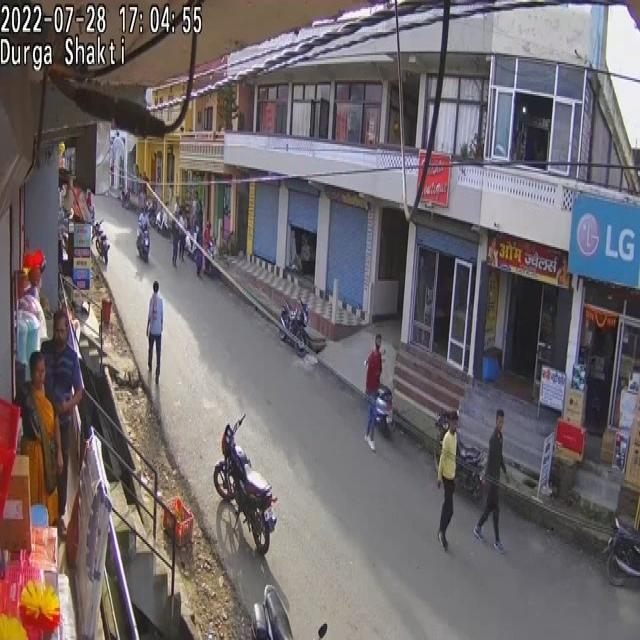non-fight: (42, 310, 83, 528), (475, 406, 511, 552), (436, 411, 458, 551), (364, 334, 386, 450), (146, 280, 164, 383), (484, 429, 506, 483), (203, 221, 213, 277), (188, 183, 204, 218), (172, 213, 182, 266), (177, 210, 187, 262)
